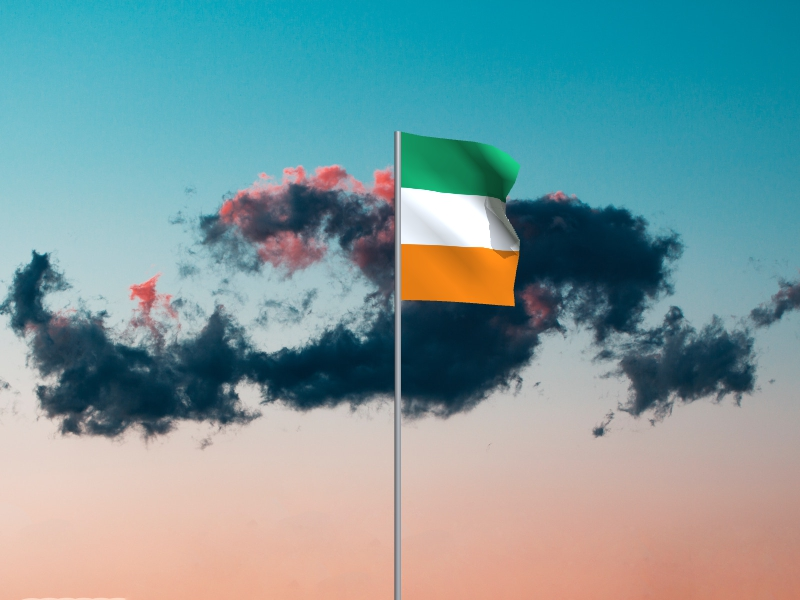ci: (402, 133, 522, 308)
